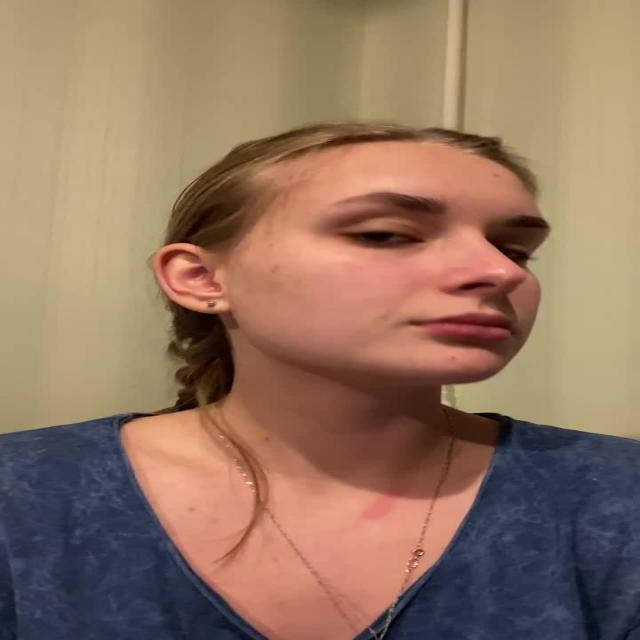earlobe: (153, 244, 234, 314)
